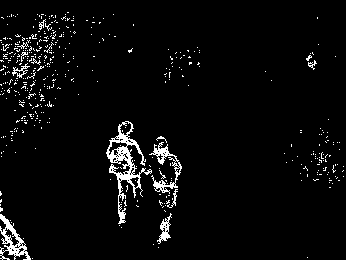person: (107, 116, 148, 228), (152, 132, 184, 247)
